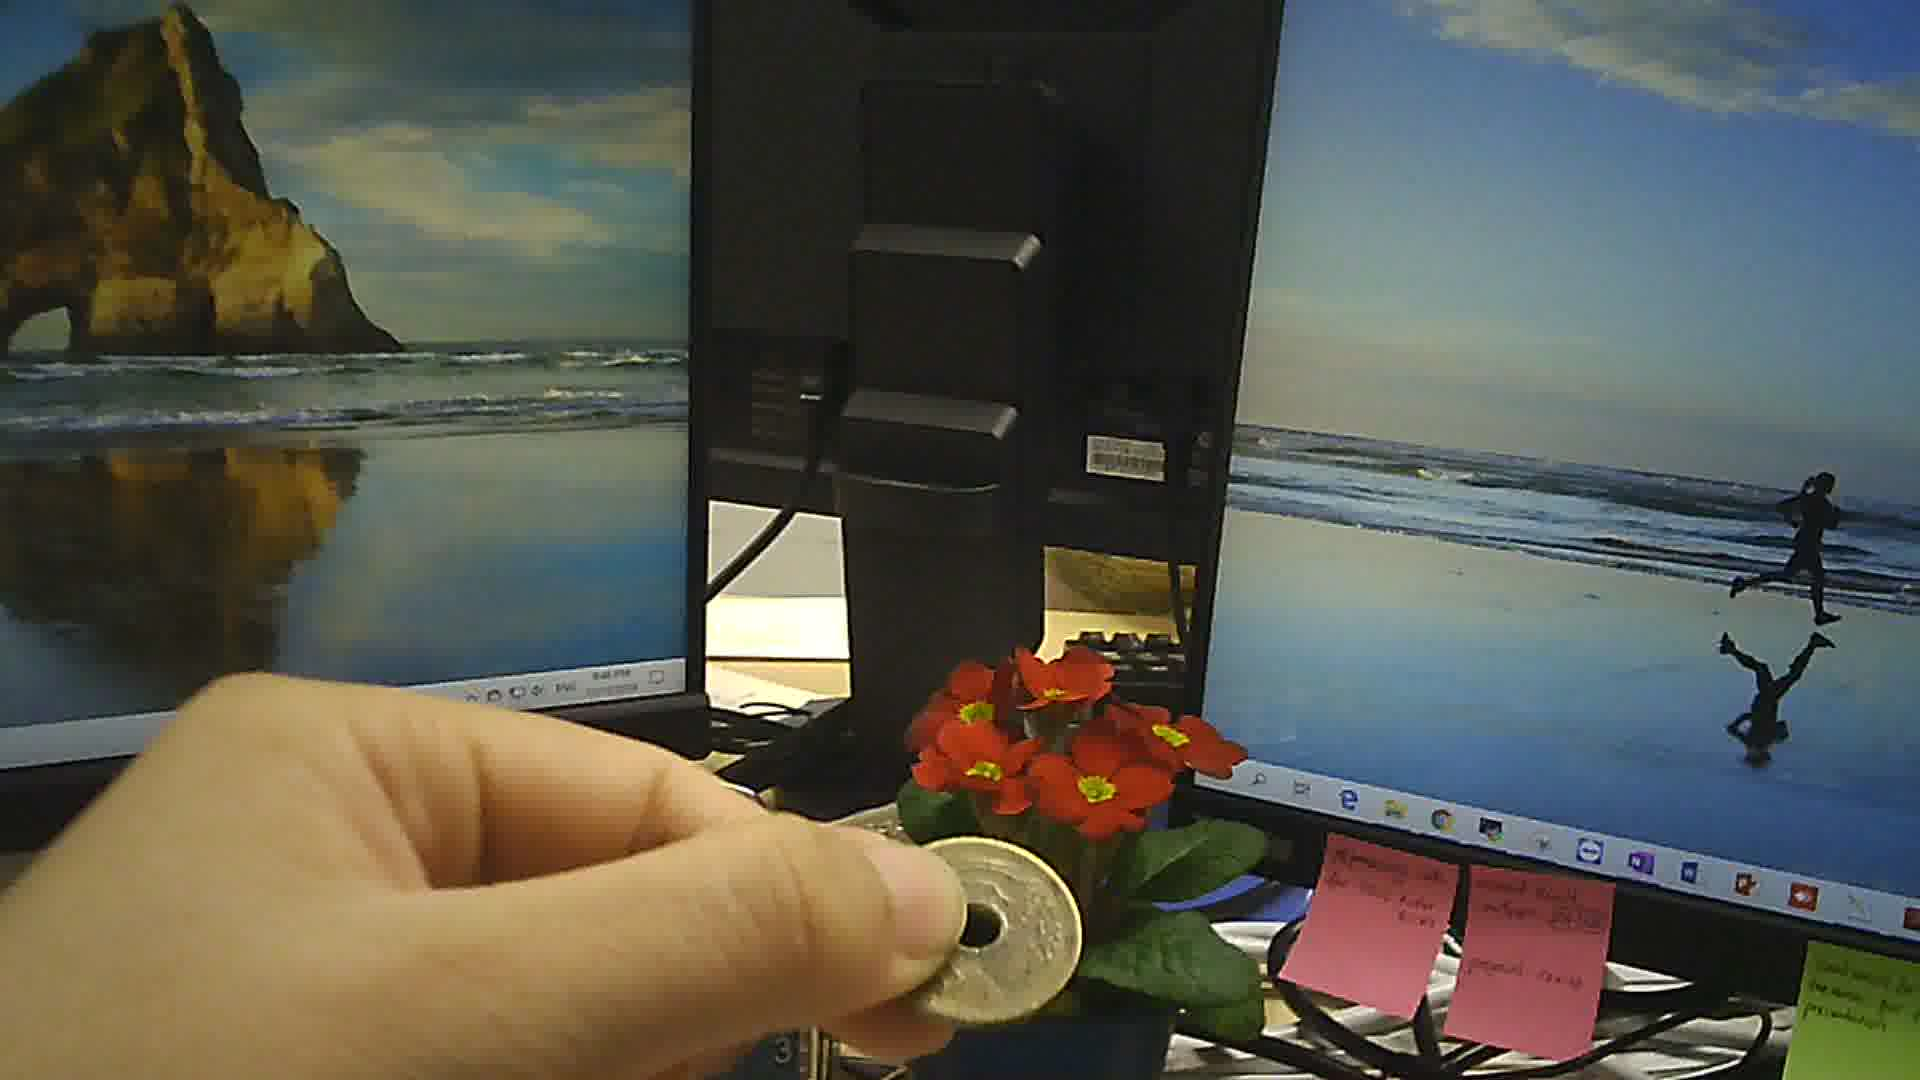5 Yen: (887, 831, 1089, 1035)
